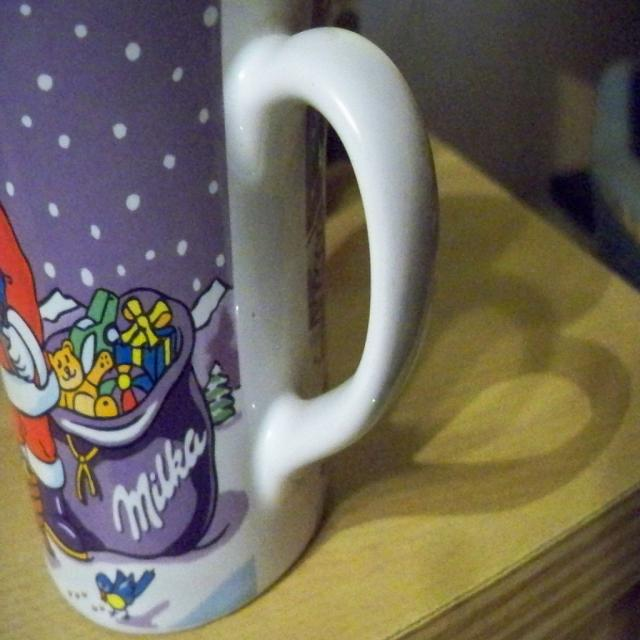milka: (111, 425, 209, 552)
